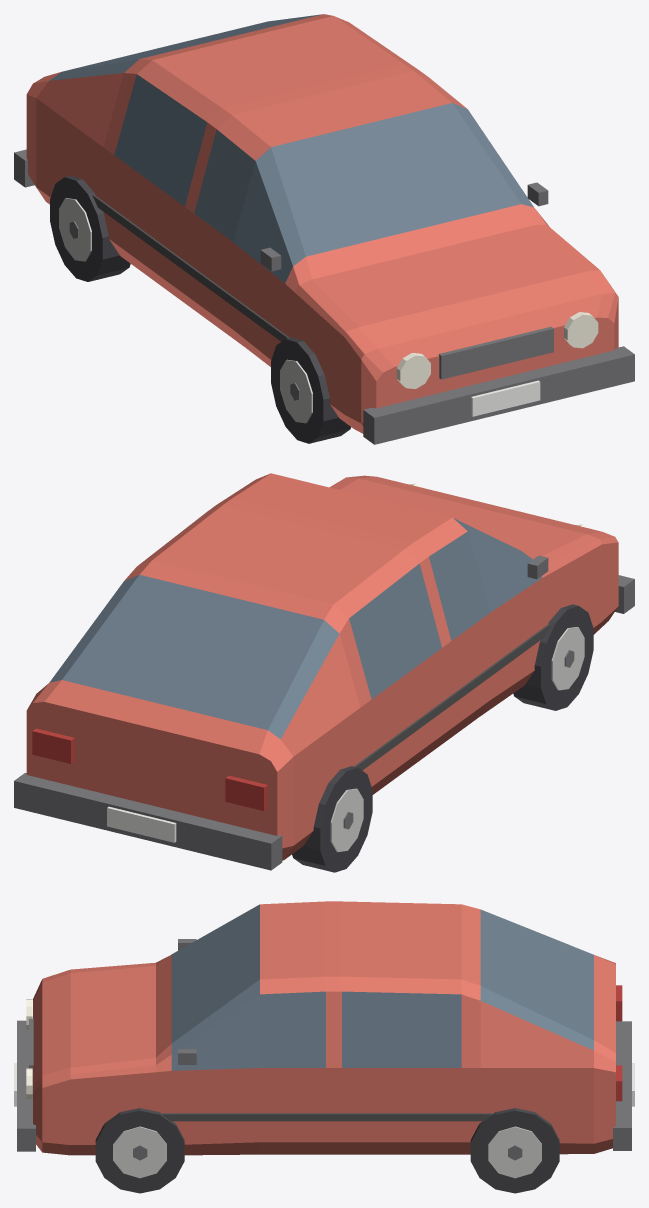
File: hatchback.glb
The picture shows the model from 3 angles, top to bottom: view 1: azimuth 30°, elevation 25°; view 2: azimuth 150°, elevation 25°; view 3: azimuth 270°, elevation 25°; orthographic projection. The views are drawn at different scales.
Parts seen in each view (by area): view 1: Govde, Tampon, Teker_ArkaSag, Teker_OnSag, Far; view 2: Govde, Tampon, Teker_ArkaSag, Teker_OnSag, Stop; view 3: Govde, Tampon, Teker_ArkaSol, Teker_OnSol, Stop.
Boxes of the visible parts, x1,y1,x2,y2 form: Govde: (26,14,618,433); Tampon: (14,149,634,444); Teker_ArkaSag: (50,175,130,281); Teker_OnSag: (271,337,350,443); Far: (396,312,598,388); Govde: (26,473,618,860); Tampon: (14,555,634,870); Teker_ArkaSag: (292,766,372,872); Teker_OnSag: (513,604,593,710); Stop: (32,728,267,810); Govde: (33,901,615,1155); Tampon: (14,939,634,1151); Teker_ArkaSol: (470,1108,559,1193); Teker_OnSol: (95,1108,184,1193); Stop: (616,985,622,1101).
Size of the model in its own units: 1.72 by 1.39 by 3.94.
